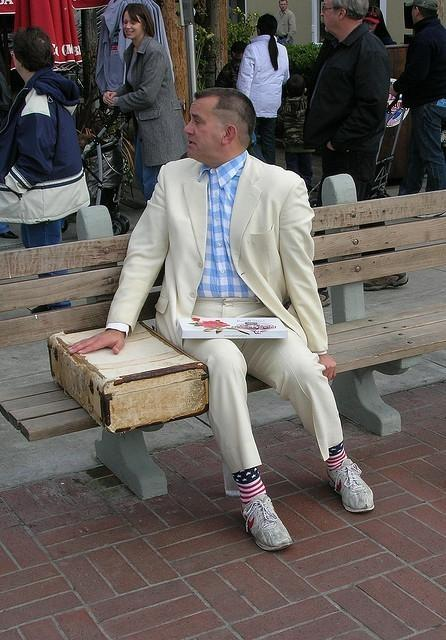bicycle: (74, 112, 140, 240), (80, 104, 121, 154)
